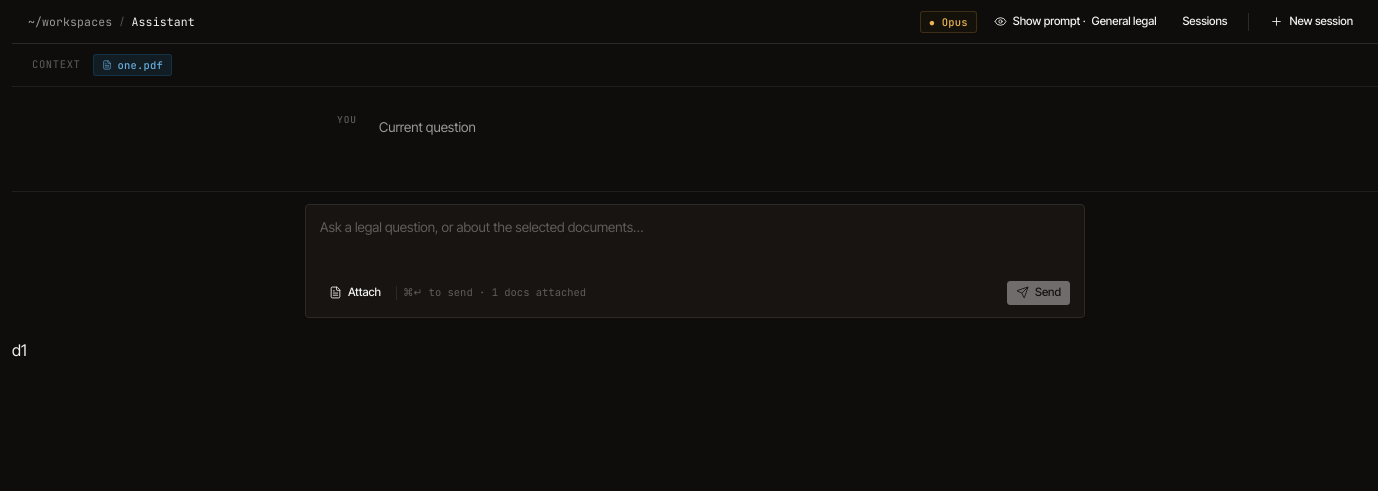
Scenario: Assistant session management › serializes repeated session actions and blocks sending during the change
Type "Draft" into the text box at (695, 243), box 320,217 -> 1070,269
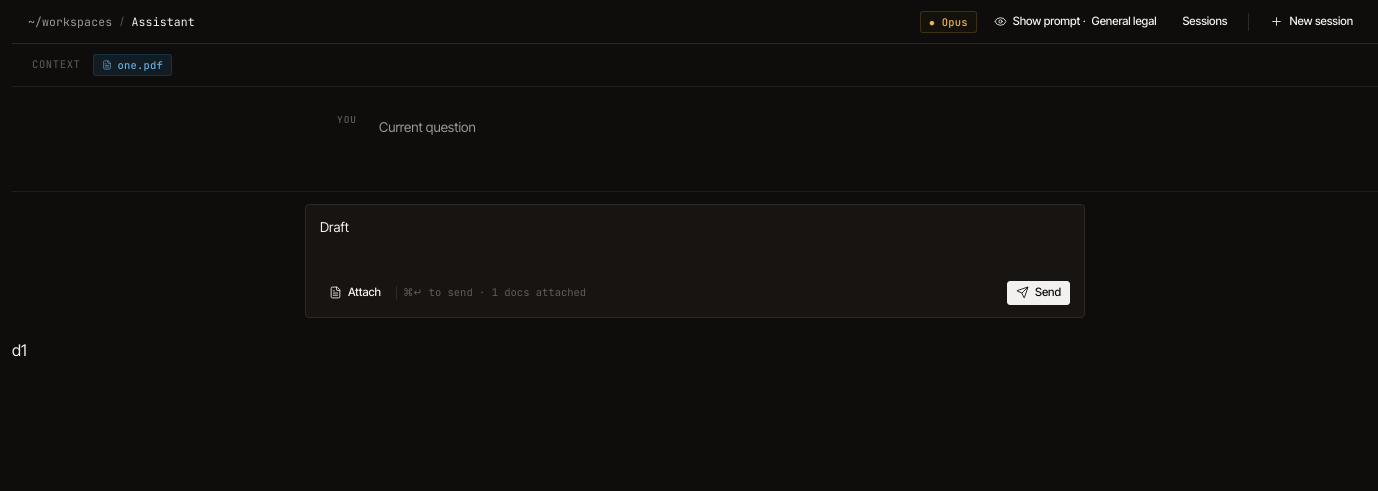
Click the button "New session" at (1312, 22), box 1261,10 -> 1362,34
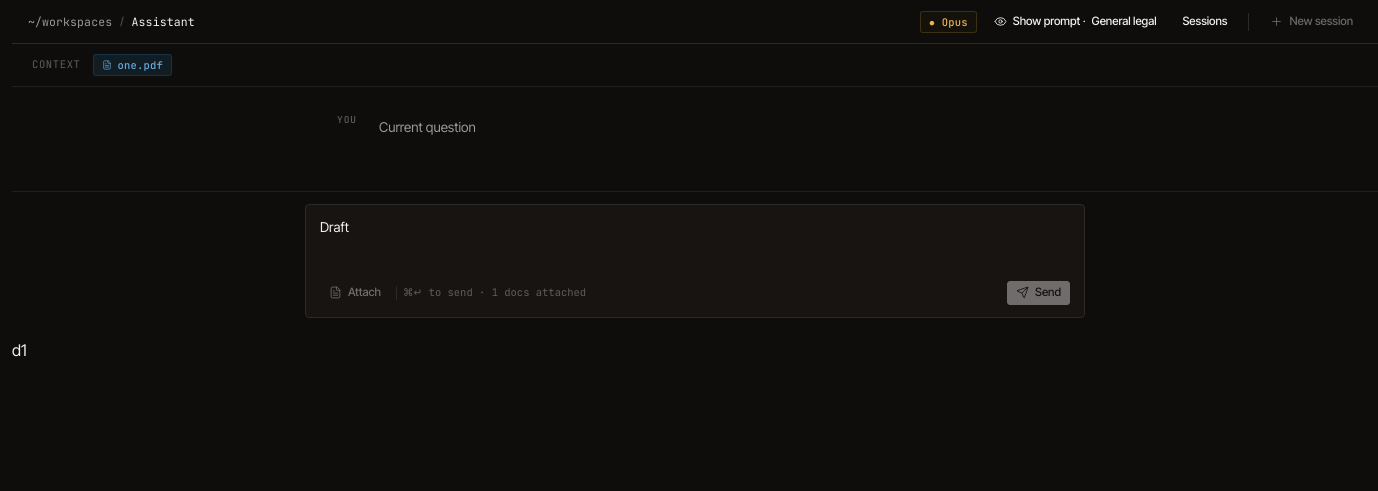
Click the button "New session" at (1312, 22), box 1261,10 -> 1362,34
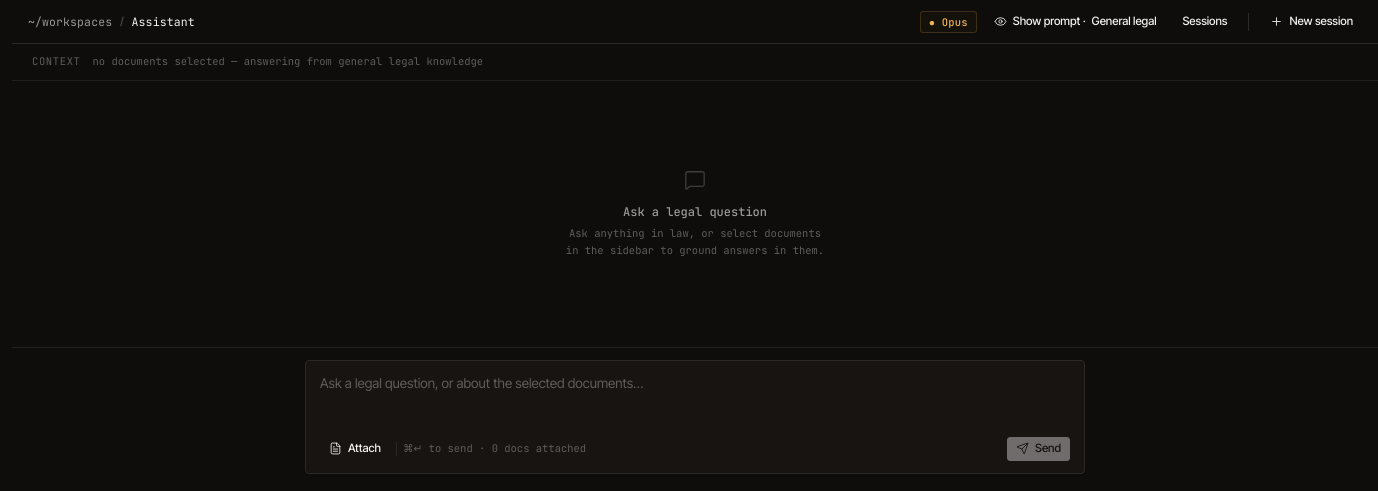
Expected: the button "Send" is disabled, 1007,437 -> 1070,461
Expected: the text "Ask a legal question" is shown, 623,204 -> 767,220
